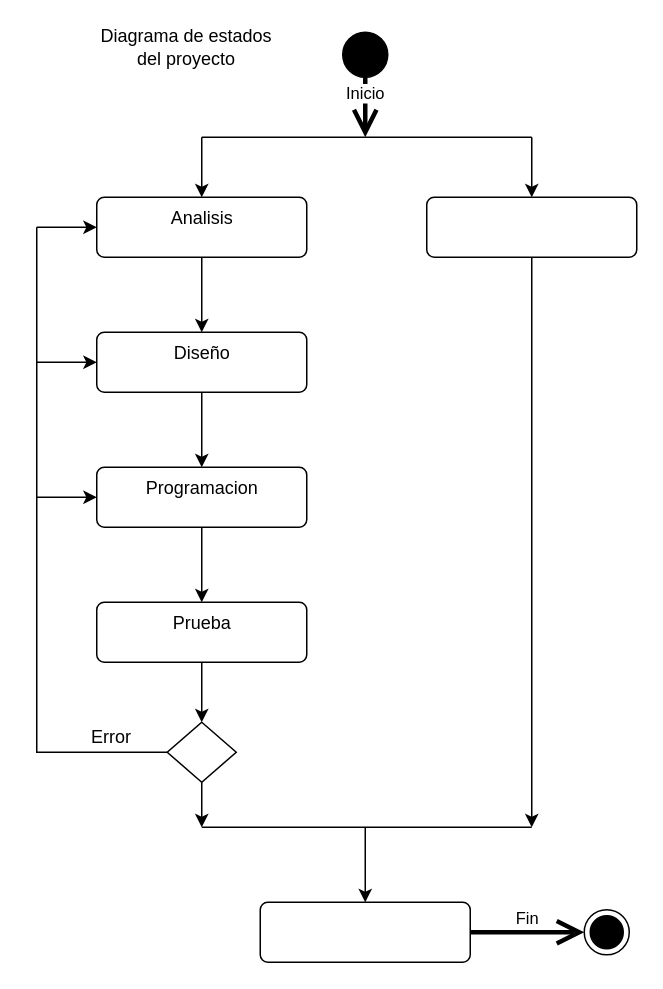
This 663x989 diagram has some shape labels left out. The shapes that lost their labels are listed below. From the top down, each one's centre as x and y in pixels, then its label:
At pixel 531 226: "Documentacion".
At pixel 364 931: "Presentacion".
